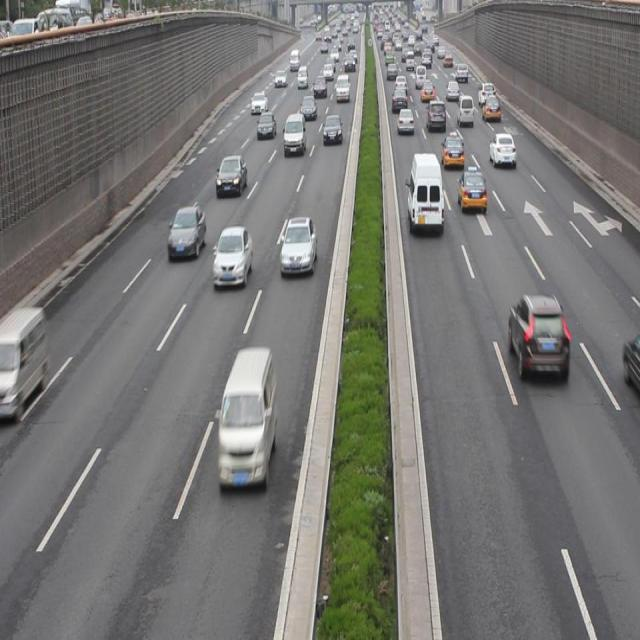car: (507, 293, 567, 380), (212, 226, 252, 288), (280, 215, 316, 276), (167, 205, 206, 258), (456, 168, 486, 212), (215, 155, 247, 195), (488, 131, 514, 170), (282, 114, 306, 153), (440, 132, 463, 169), (321, 112, 342, 144), (426, 100, 446, 132), (256, 111, 276, 138), (397, 106, 412, 132)
truck: (217, 348, 274, 496), (1, 306, 48, 416), (406, 151, 444, 237), (457, 96, 473, 126)
